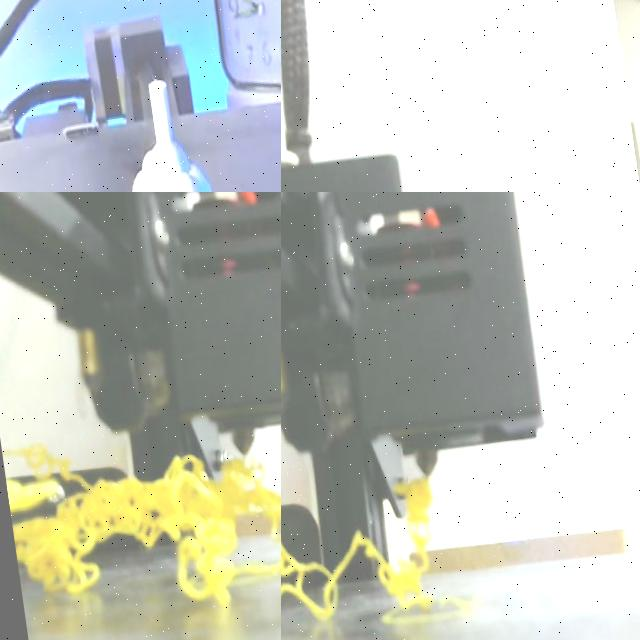spaghetti: (6, 445, 281, 604), (281, 479, 434, 621)
